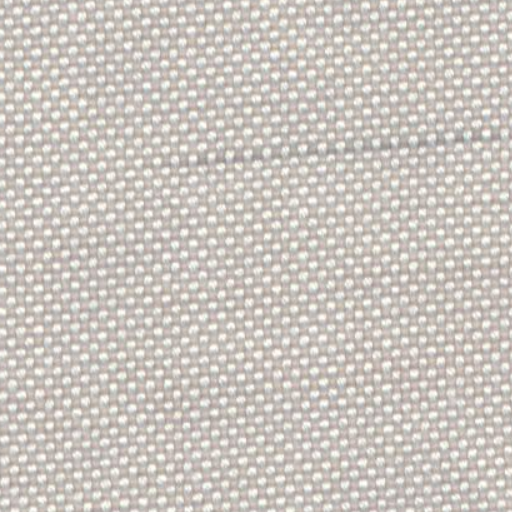WuZi: (152, 126, 500, 170)
